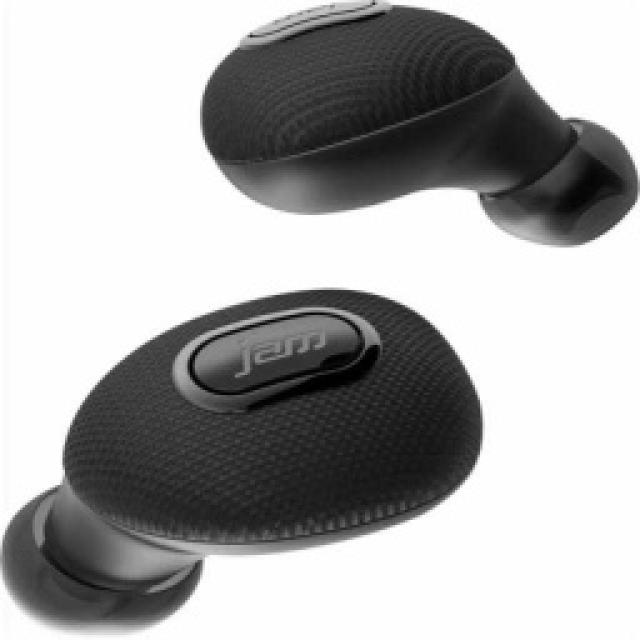headphones: (198, 0, 638, 248)
